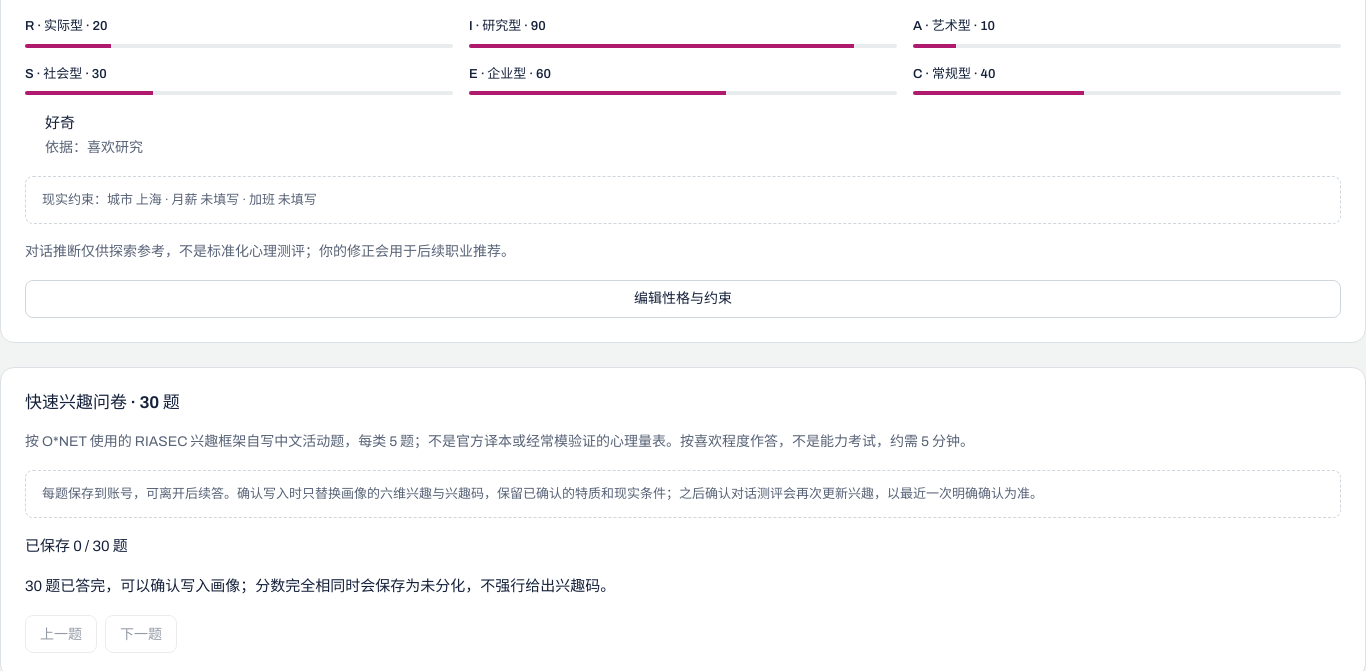
edits the confirmed projection through assessment confirm and refreshes both panels without reloading
(page scrolled)
Click the button "编辑性格与约束" at (683, 299), box [25,280,1341,318]
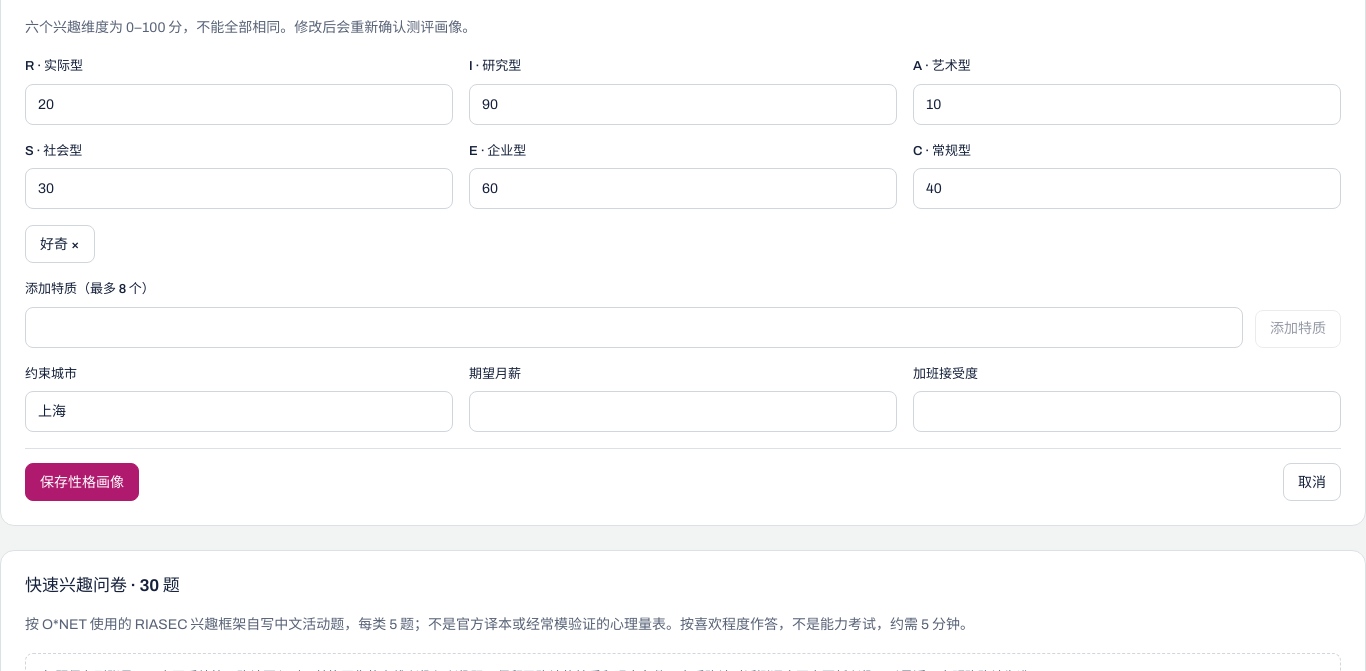
Replace the text in the number field named "riasec-S" with "95" at (239, 189), box [25,168,453,209]
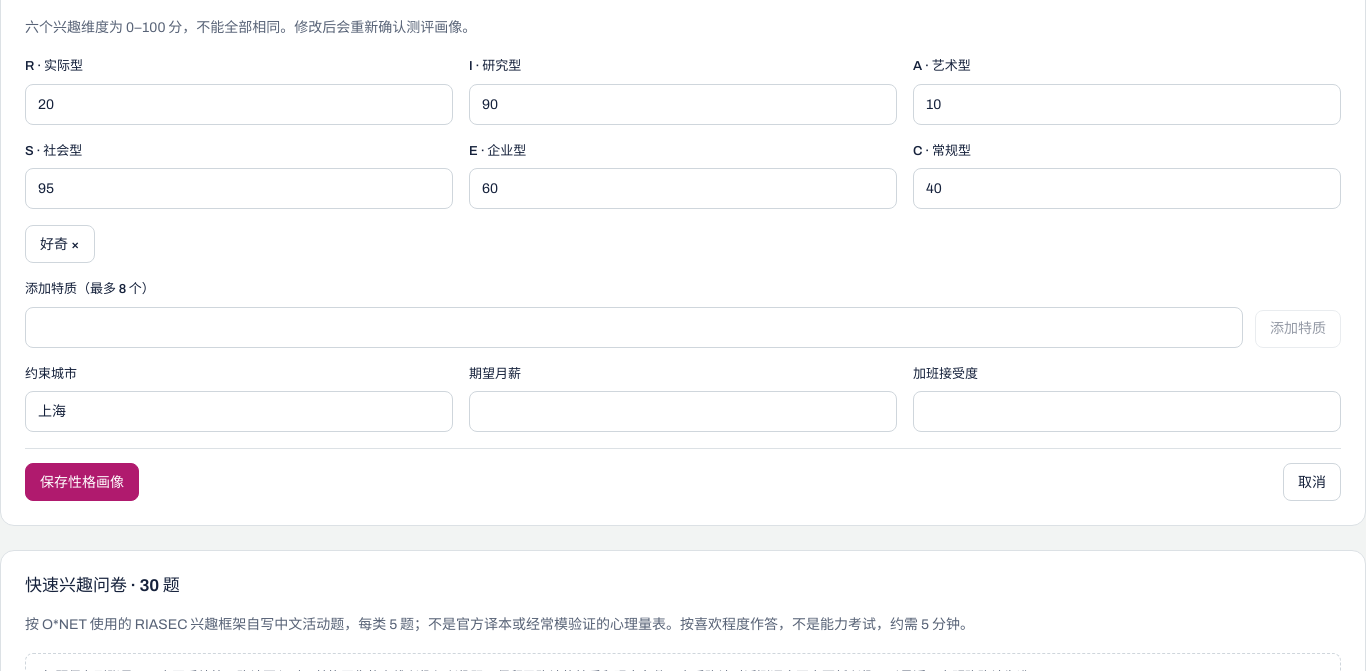
Submit the form
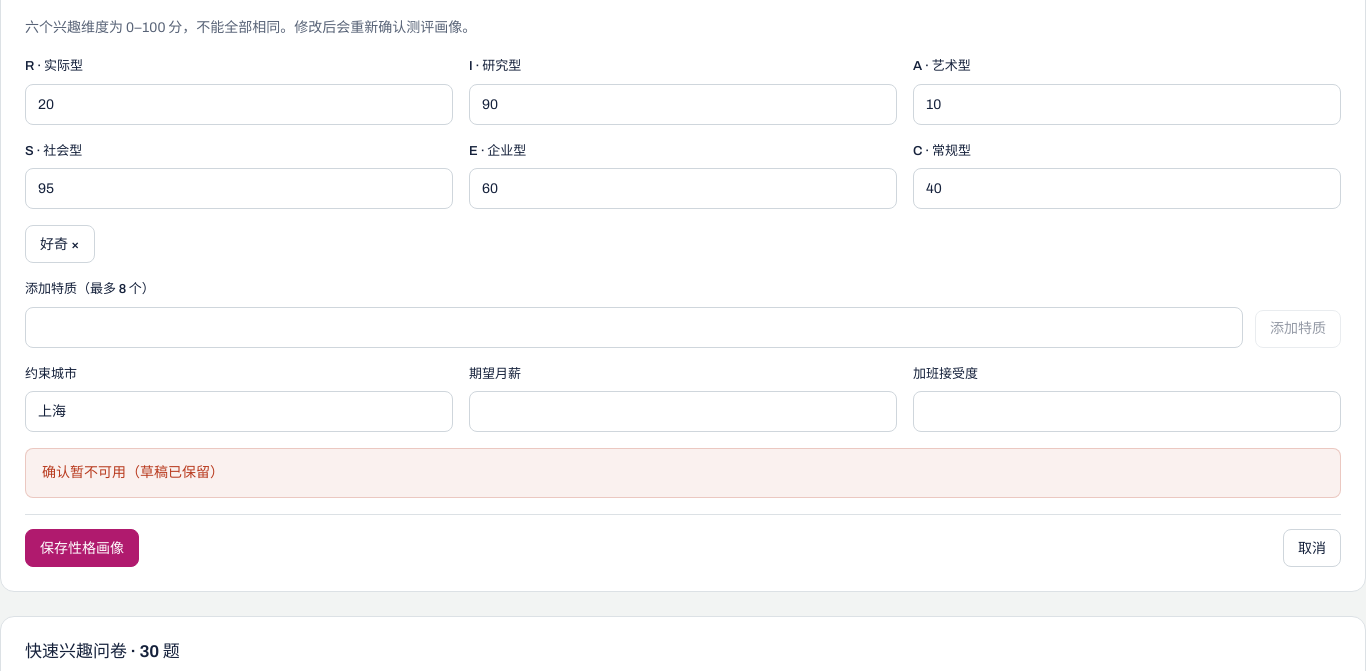
Expected: the text "确认暂不可用" is shown, [42,465,224,480]
Submit the form
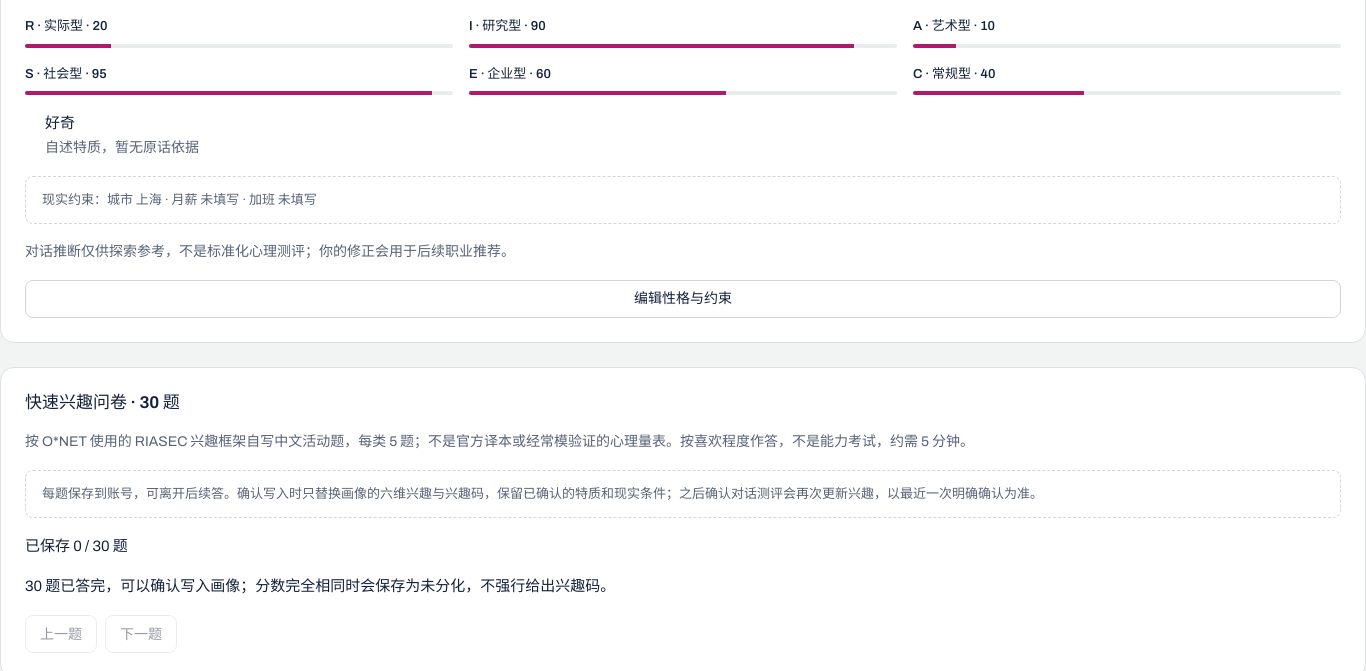
Expected: the number field named "riasec-S" is gone
